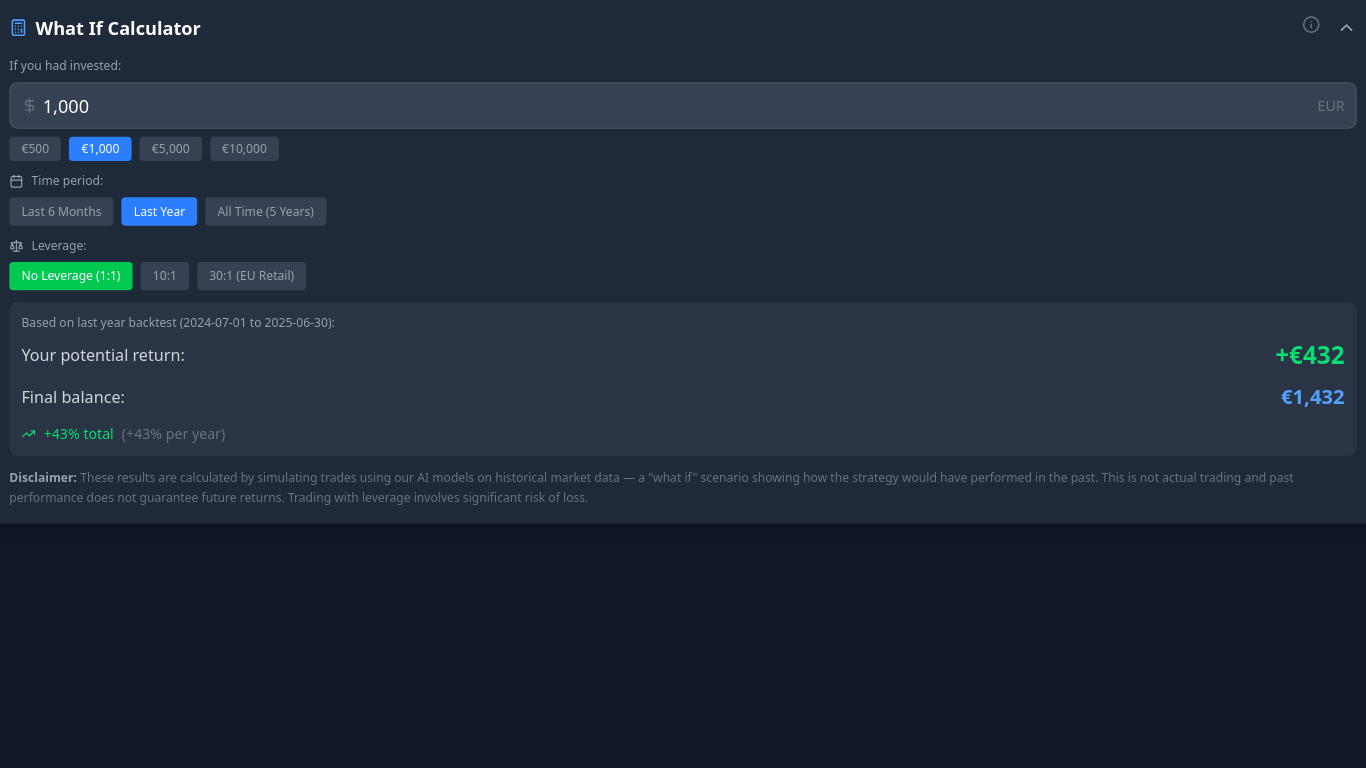
Scenario: InvestmentCalculator › toggles details section when info button clicked
The image size is (1366, 768).
Check: the text "Calculation Details" is not shown
// Click info button
Click the button named "Show calculation details" at (1311, 25), box x1=1302 y1=16 x2=1320 y2=34
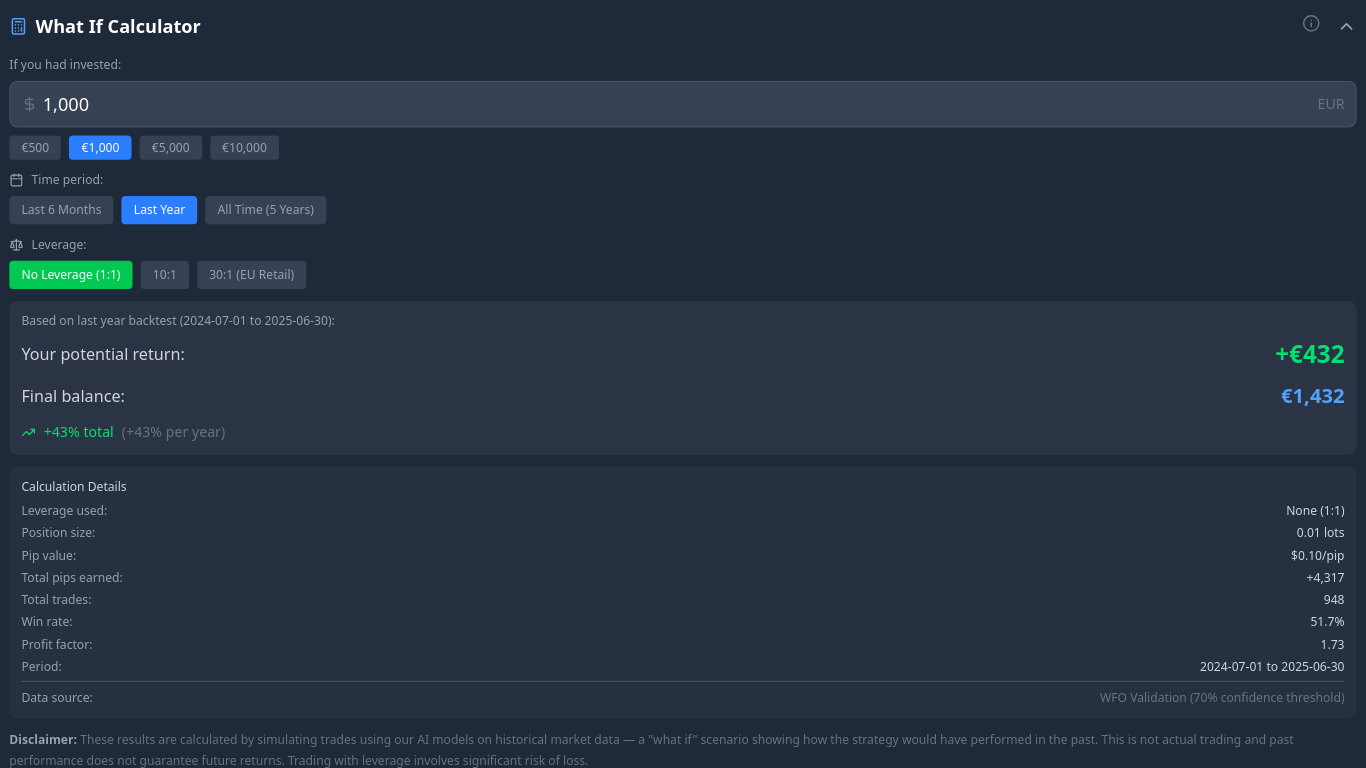
Check: the heading "Calculation Details" is shown, box x1=21 y1=478 x2=127 y2=495
Check: the text "None (1:1)" is shown, box x1=1286 y1=503 x2=1344 y2=519
Check: the text "+4,317" is shown, box x1=1307 y1=570 x2=1344 y2=586
